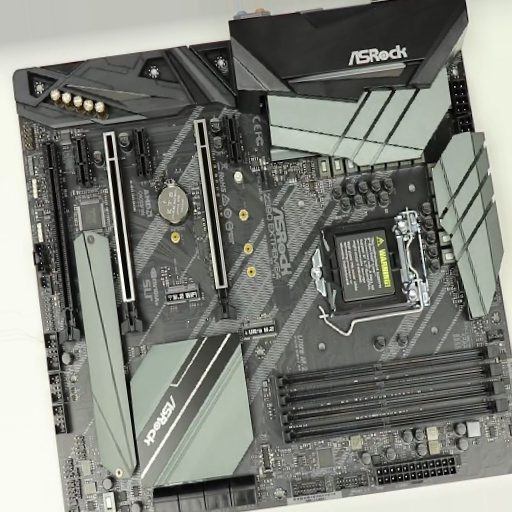CPU: (307, 213, 422, 311)
GPU: (100, 131, 148, 331), (192, 119, 236, 323)
MOTHERBOARD: (10, 1, 511, 507)
RAM: (267, 344, 512, 440)
SSD: (164, 282, 204, 307), (241, 318, 281, 341)
